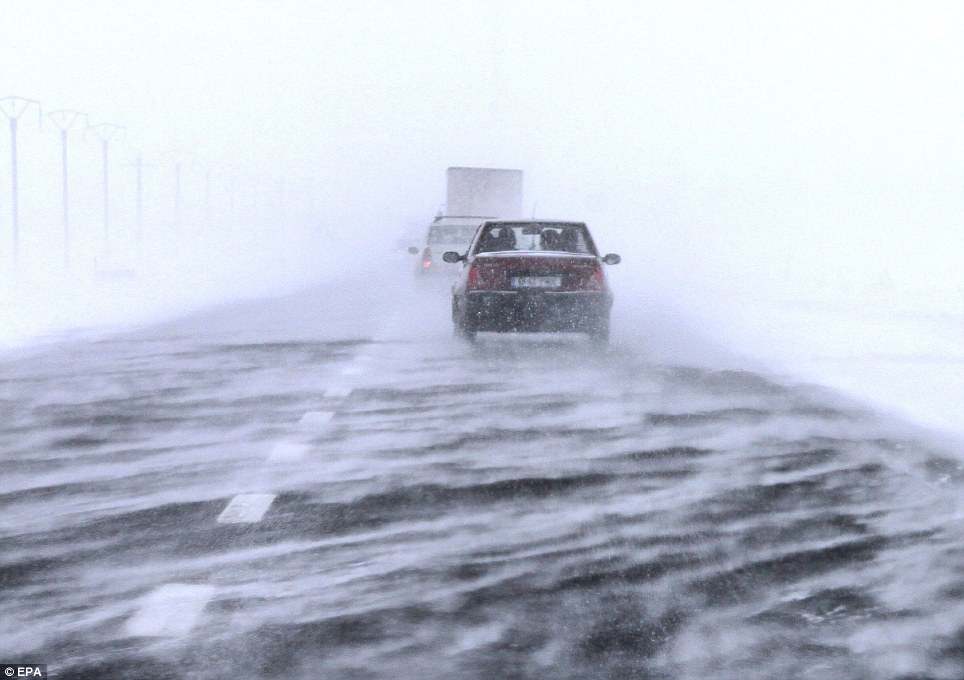car: (444, 217, 624, 345), (404, 214, 484, 305)
